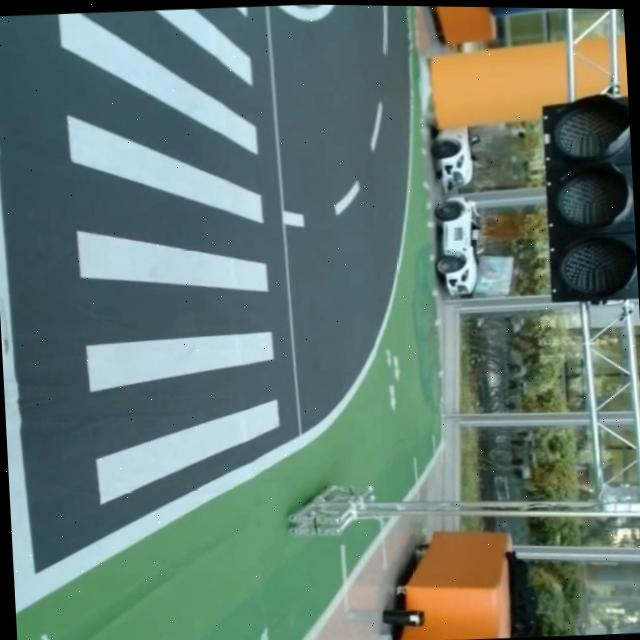traffic-light: (537, 89, 639, 315)
